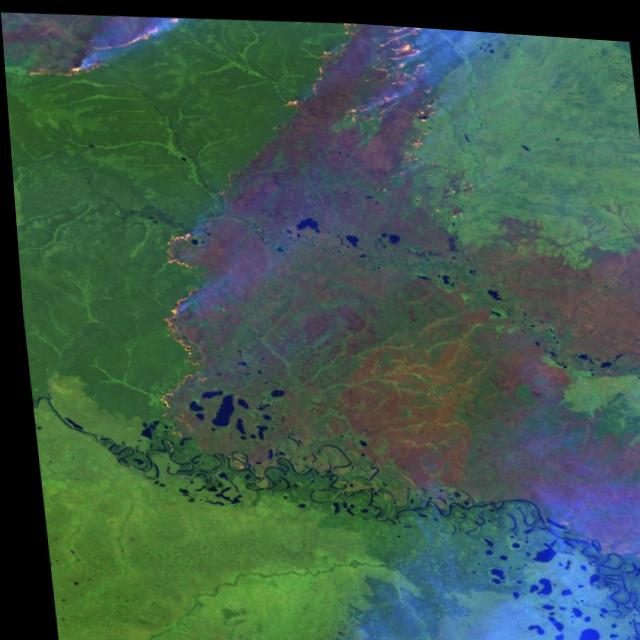fire: (124, 207, 220, 467), (257, 13, 457, 130), (3, 5, 195, 93)
